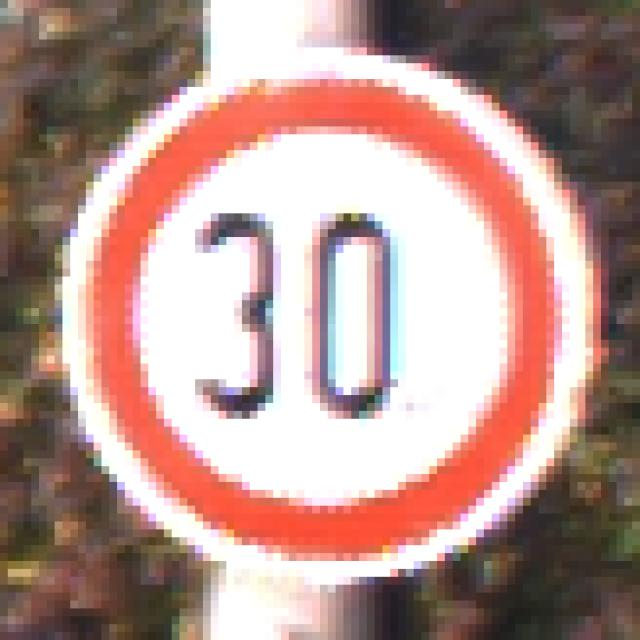Speed Limit -30-: (54, 51, 570, 581)
